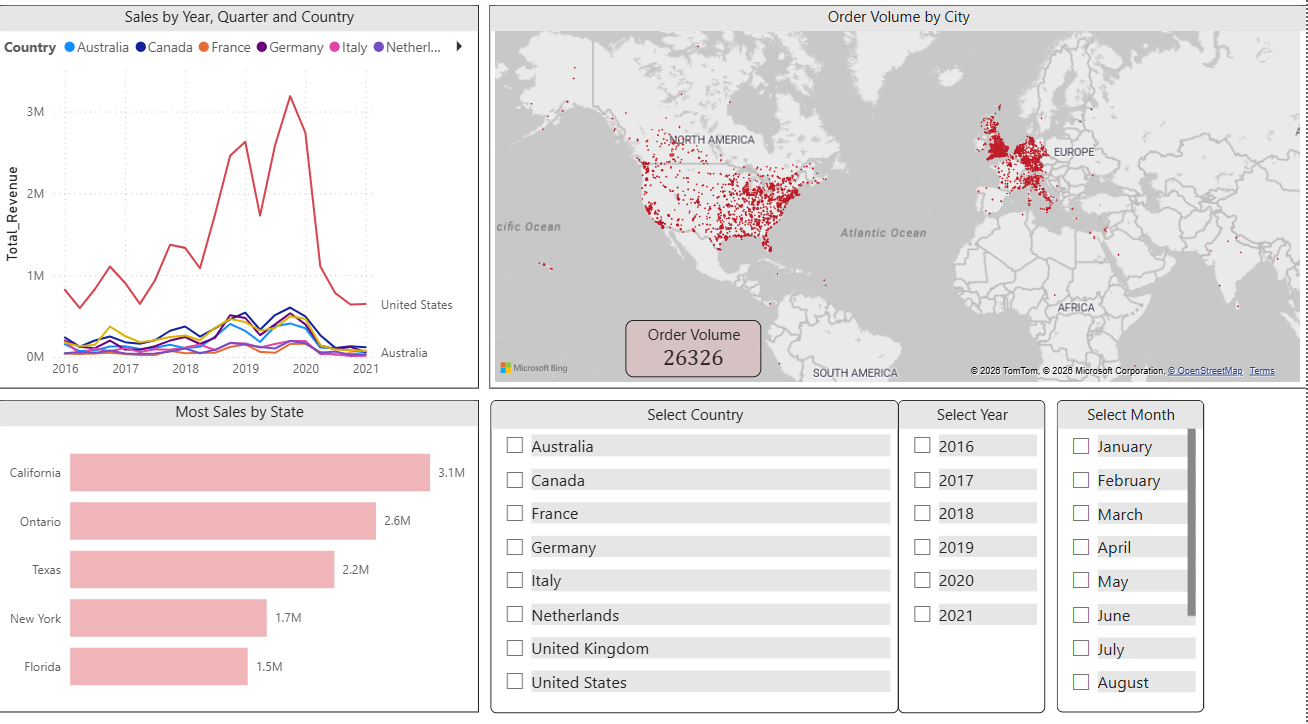

The page's visual inventory and layout, read from the dashboard file:
{"tool":"powerbi","page":{"name":"Demand By Geography","canvas":[1280,720],"ordinal":3},"visuals":[{"type":"map","title":"Order Volume by City","fields":{"Size":["Metrics.Total_Orders"],"Category":["Customers.City"]},"box":[480.6,9.8,799.7,375.4],"z":0},{"type":"barChart","fields":{"Category":["Customers.State"],"Y":["Metrics.Total_Revenue"]},"box":[0,396.2,470.8,305.7],"z":1000},{"type":"lineChart","title":"Sales by Year, Quarter and Country","fields":{"Category":["Sales.Order_Date.Variation.Date Hierarchy.Year","Sales.Order_Date.Variation.Date Hierarchy.Quarter","Sales.Order_Date.Variation.Date Hierarchy.Month","Sales.Order_Date.Variation.Date Hierarchy.Day"],"Series":["Customers.Country"],"Y":["Metrics.Total_Revenue"]},"box":[0,9.8,470.8,375.4],"z":2000},{"type":"slicer","title":"Select Country","fields":{"Values":["Customers.Country"]},"box":[481.6,396.6,399.3,306],"z":3000},{"type":"slicer","title":"Select Year","fields":{"Values":["Sales.Order_Date.Variation.Date Hierarchy.Year"]},"box":[881,396.6,144.1,306],"z":4000},{"type":"card","title":"Order Volume","fields":{"Values":["Metrics.Total_Orders"]},"box":[614.3,318.3,132.6,55.8],"z":5000},{"type":"slicer","title":"Select Month","fields":{"Values":["Sales.Order_Date.Variation.Date Hierarchy.Month"]},"box":[1036,396.5,143.8,305.8],"z":6000}]}

Visuals, with their boxes in screenshot pixels (x1, y1, x2, y2), scaled from the page's 1280x720 canvas onto the 1308x724 screenshot:
"Order Volume by City" map: 491,10,1307,387
barChart - Customers.State x Metrics.Total_Revenue: 0,398,481,706
"Sales by Year, Quarter and Country" lineChart: 0,10,481,387
"Select Country" slicer: 492,399,900,707
"Select Year" slicer: 900,399,1048,707
"Order Volume" card: 628,320,763,376
"Select Month" slicer: 1059,399,1206,706
